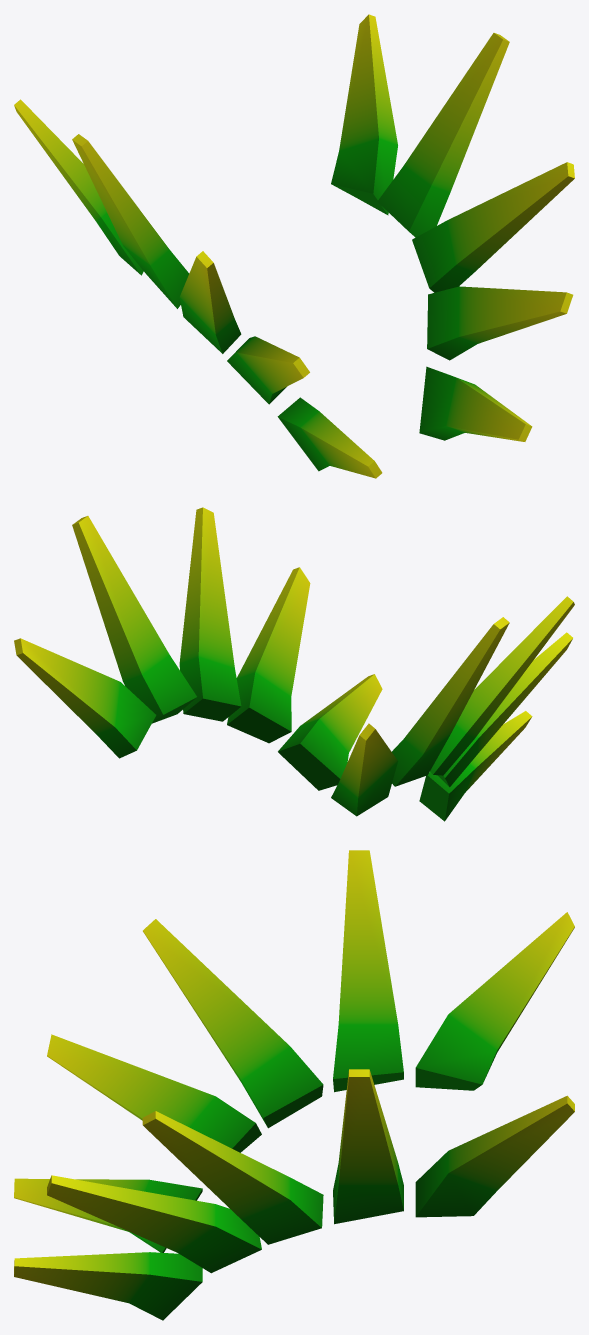
Rendered from hat_biHawk.glb.
3 renders of one model, top to bottom at view 1: azimuth 30°, elevation 25°; view 2: azimuth 150°, elevation 25°; view 3: azimuth 270°, elevation 25°, orthographic. The views are drawn at different scales.
Visible parts, largest first — view 1: hat_biHawk; view 2: hat_biHawk; view 3: hat_biHawk.
Boxes of the visible parts, x1,y1,x2,y2 form: hat_biHawk: (14, 14, 574, 478); hat_biHawk: (14, 507, 574, 821); hat_biHawk: (14, 850, 574, 1320).
Bounding box in the file's own units: 0.474 × 0.3204 × 0.4972.
